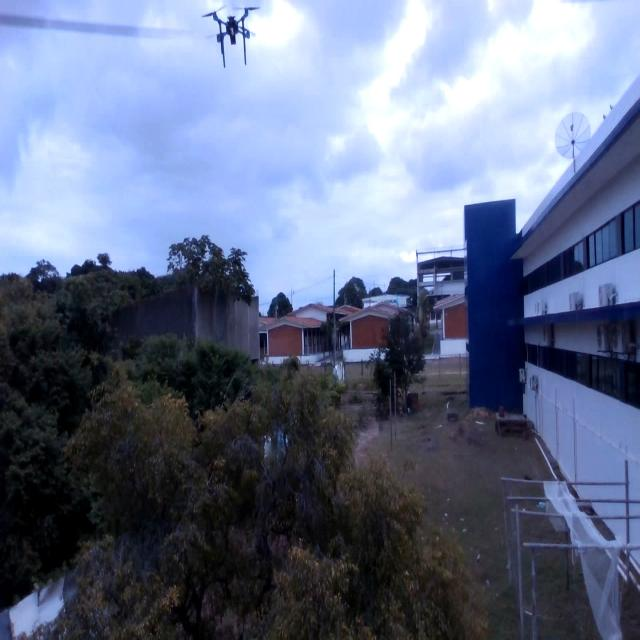-uav-: (200, 3, 262, 80)
